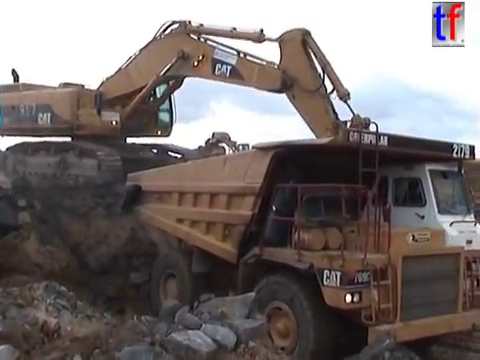excavator: (1, 17, 383, 203)
truck: (121, 114, 480, 360)
wheel loader: (204, 130, 261, 170)
